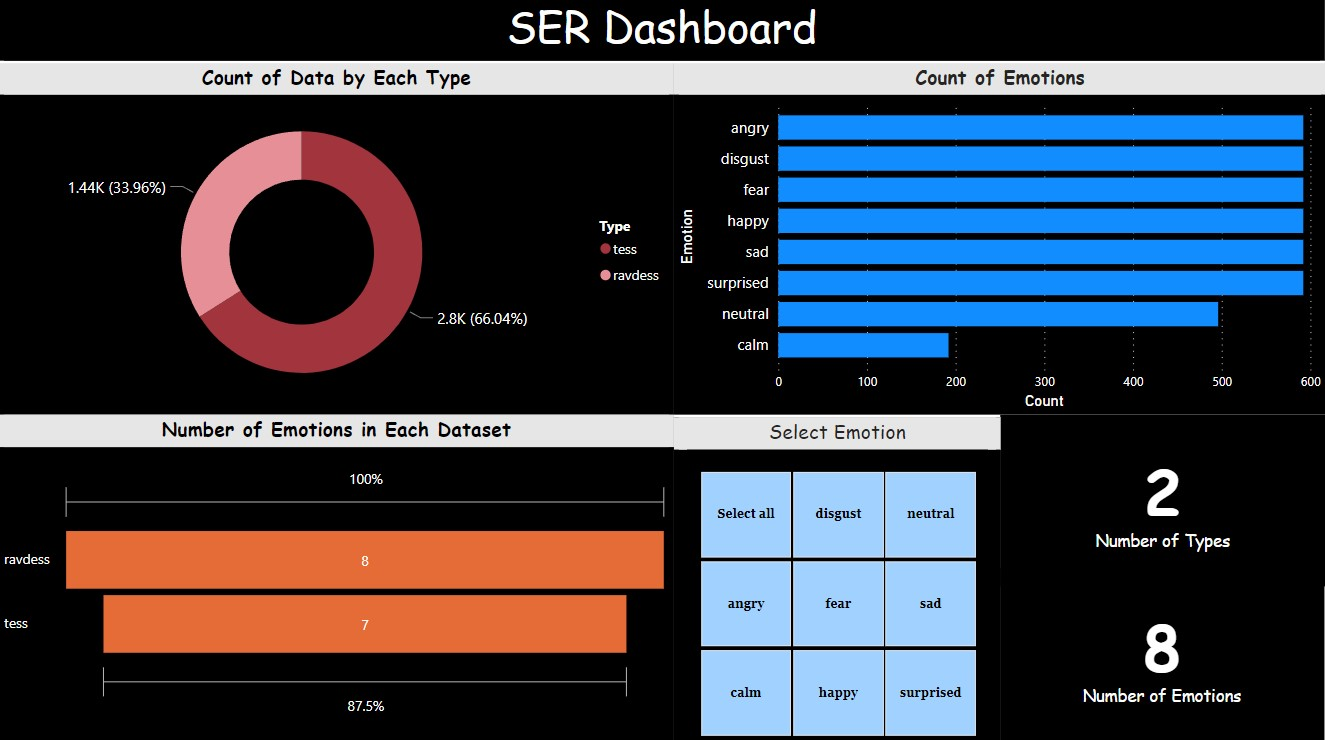

The page's visual inventory and layout, read from the dashboard file:
{"tool":"powerbi","page":{"name":"Page 1","canvas":[1280,720],"ordinal":0},"visuals":[{"type":"donutChart","fields":{"Category":["DF.source"],"Y":["CountNonNull(DF.source)"]},"box":[0,64.4,651.2,340],"z":0},{"type":"barChart","title":"Count of Emotions","fields":{"Y":["CountNonNull(DF.ID)"],"Category":["DF.emotion"]},"box":[651.2,64.4,629.3,340],"z":1000},{"type":"textbox","title":"SER Dashboard","box":[0,0,1279.2,64.4],"z":2000},{"type":"funnel","title":"Number of Emotions in Each Dataset","fields":{"Category":["DF.source"],"Y":["Count(DF.emotion)"]},"box":[0,404.5,651.2,315.3],"z":3000},{"type":"card","fields":{"Values":["Count(DF.emotion)"]},"box":[966.6,552.5,312.6,167.3],"z":4000},{"type":"card","fields":{"Values":["Count(DF.source)"]},"box":[966.6,404.5,314,165.9],"z":5000},{"type":"slicer","title":"Select Emotion","fields":{"Values":["DF.emotion"]},"box":[651.2,405.8,315.3,314],"z":6000}]}

Visuals, with their boxes in screenshot pixels (x1, y1, x2, y2), scaled from the page's 1280x720 canvas onto the 1325x740 screenshot:
donutChart - DF.source x CountNonNull(DF.source): 0:66:674:416
"Count of Emotions" barChart: 674:66:1324:416
"SER Dashboard" textbox: 0:0:1324:66
"Number of Emotions in Each Dataset" funnel: 0:416:674:739
card - Count(DF.emotion): 1001:568:1324:739
card - Count(DF.source): 1001:416:1324:586
"Select Emotion" slicer: 674:417:1000:739
